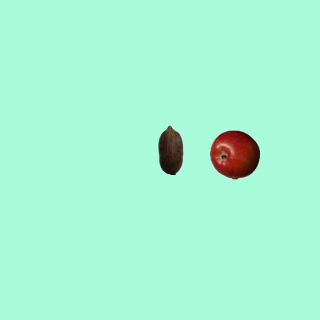Apple Braeburn: (209, 129, 259, 179)
Nut Pecan: (145, 124, 195, 174)
